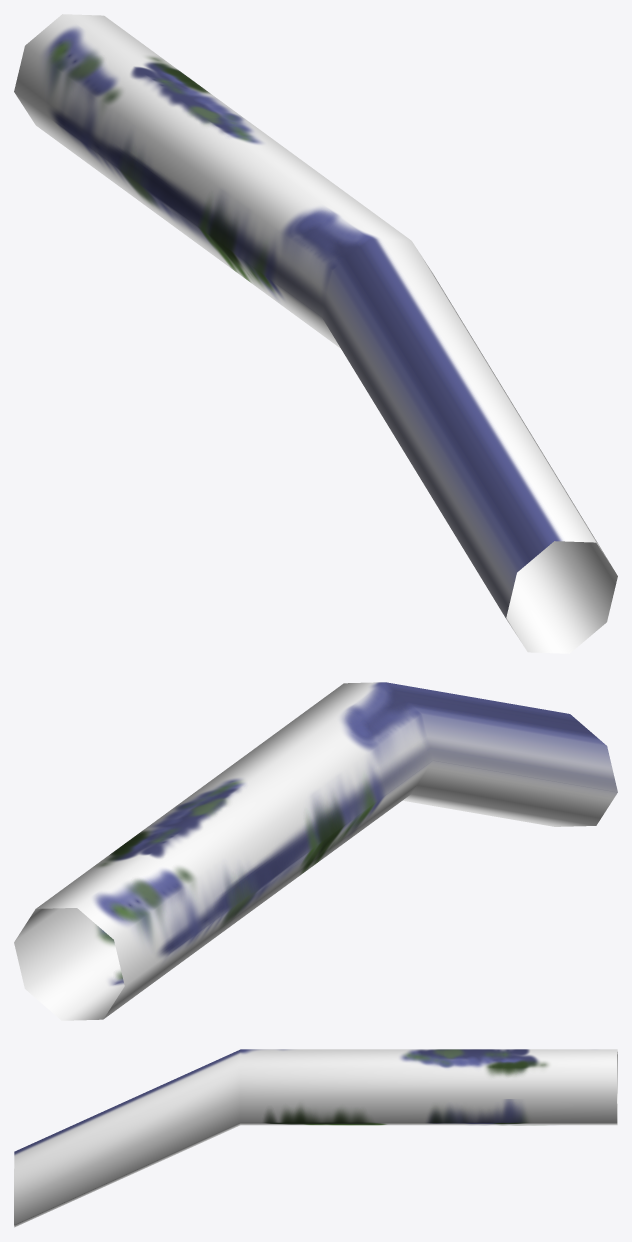
File: eğikkbrou.fbx
3 renders of one model, top to bottom at view 1: azimuth 30°, elevation 25°; view 2: azimuth 150°, elevation 25°; view 3: azimuth 270°, elevation 25°, orthographic. The views are drawn at different scales.
Parts seen in each view (by area): view 1: düzboru; view 2: düzboru; view 3: düzboru.
Part boxes in pixels (x1,y1,x2,y2): düzboru: [14, 14, 617, 653]; düzboru: [14, 682, 617, 1020]; düzboru: [14, 1049, 617, 1227].
Size of the model in its own units: 62.93 by 153 by 483.
Materials: 1 (1 with a texture image).
